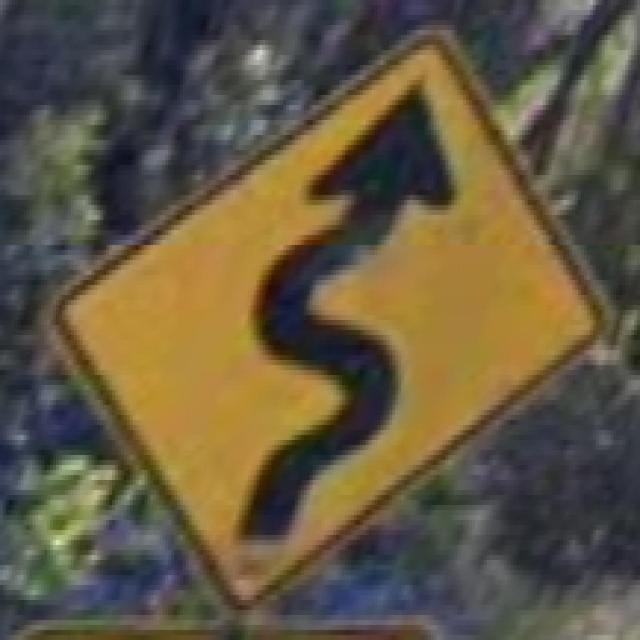Banyak Tikungan Pertama Kanan: (41, 10, 611, 615)
